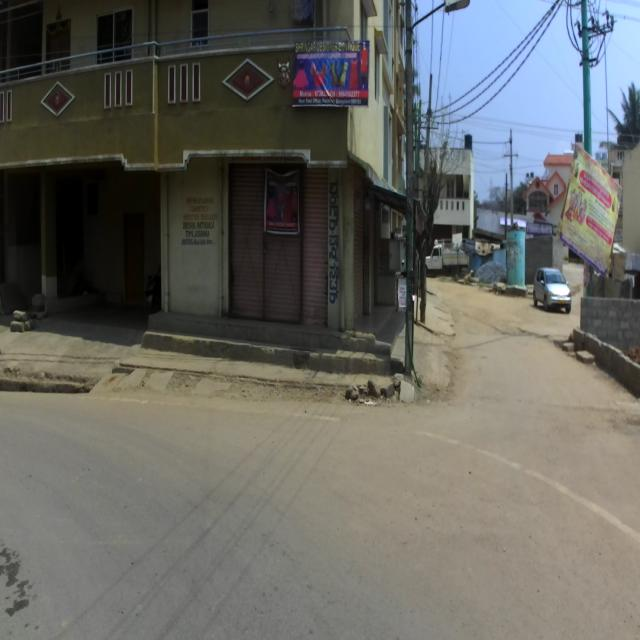electric pole ahead at: (392, 0, 430, 377)
